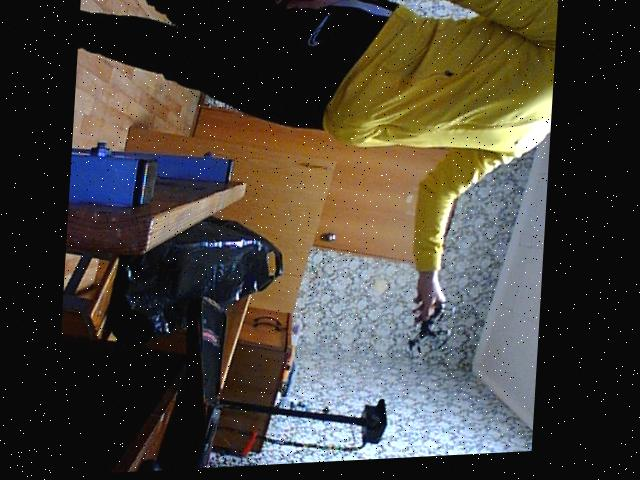drone: (406, 299, 464, 366)
